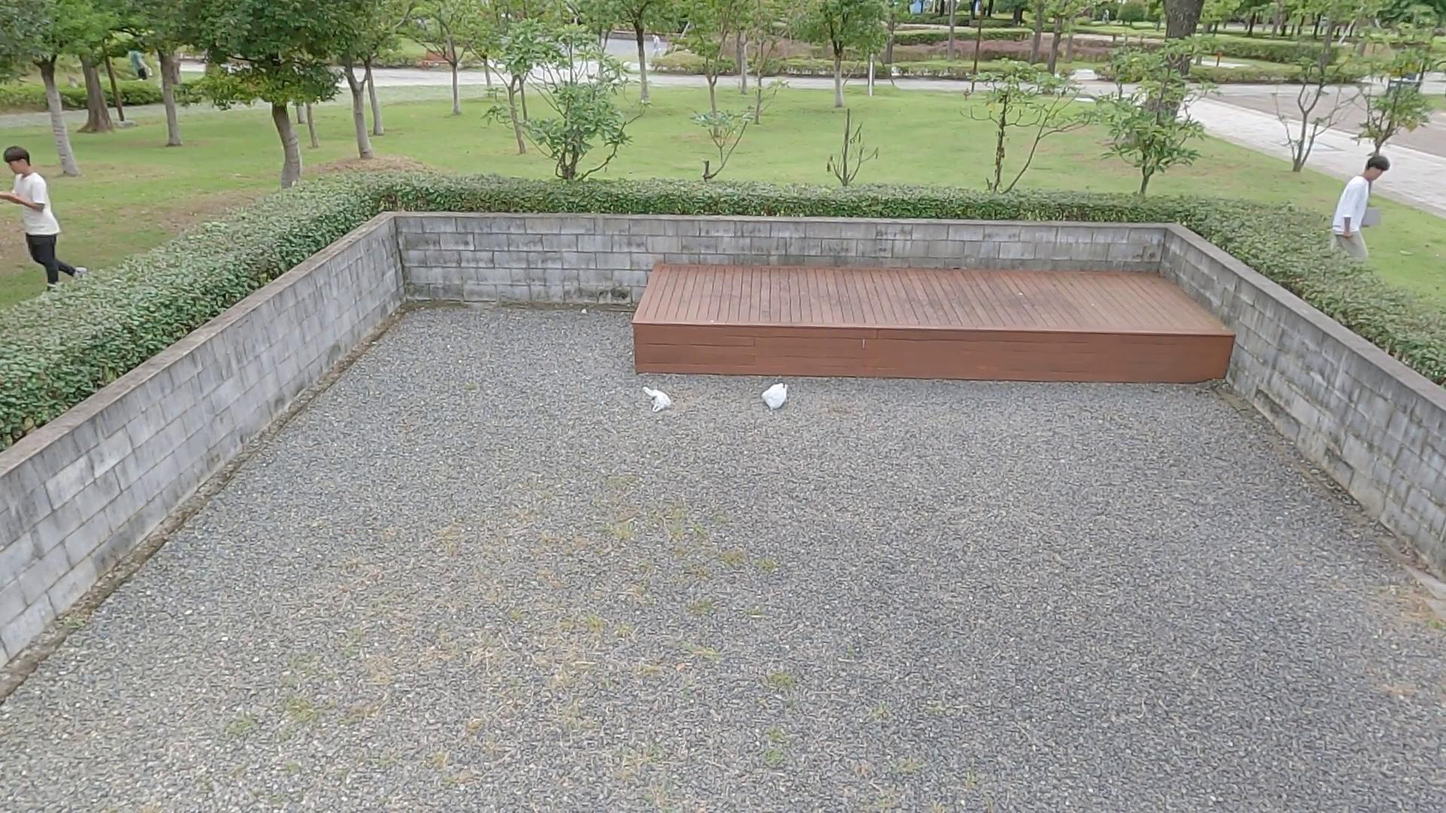person: (5, 141, 89, 298), (1336, 145, 1393, 267)
trash: (640, 380, 677, 425), (759, 384, 799, 412)
